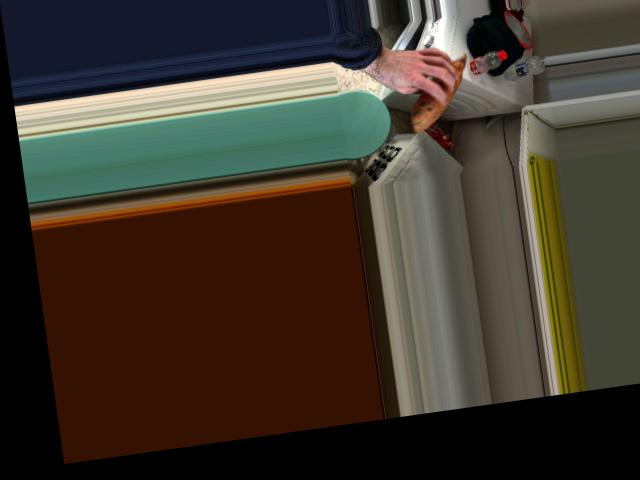sweet_potato: (403, 50, 472, 128)
